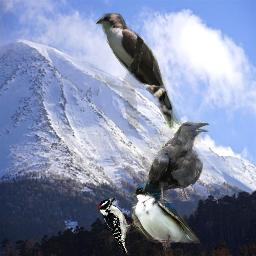Crow: (142, 121, 210, 203)
Cuckoo: (95, 13, 183, 129)
Swallow: (130, 181, 200, 252)
Woodpecker: (98, 197, 140, 255)
